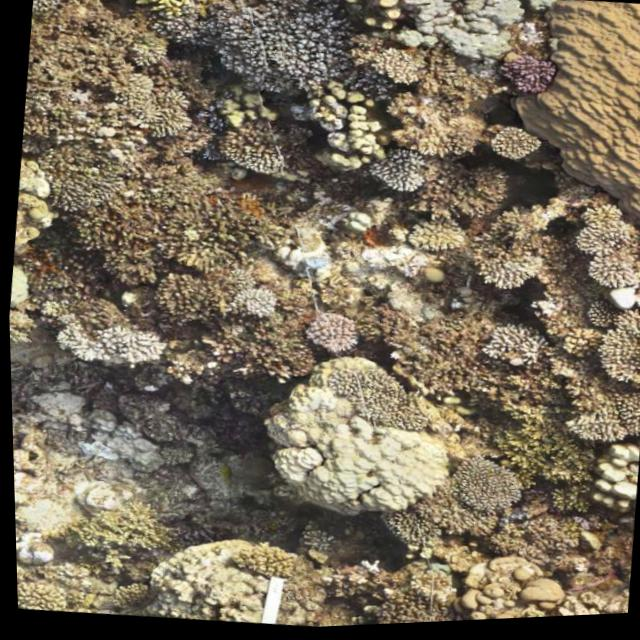Bleached Coral: (245, 377, 446, 538), (172, 0, 364, 97), (368, 0, 531, 81), (33, 308, 173, 372), (332, 231, 428, 282), (256, 231, 329, 292), (593, 279, 635, 316)
Healthy Coral: (5, 0, 191, 305), (449, 204, 575, 447), (388, 552, 628, 627)
